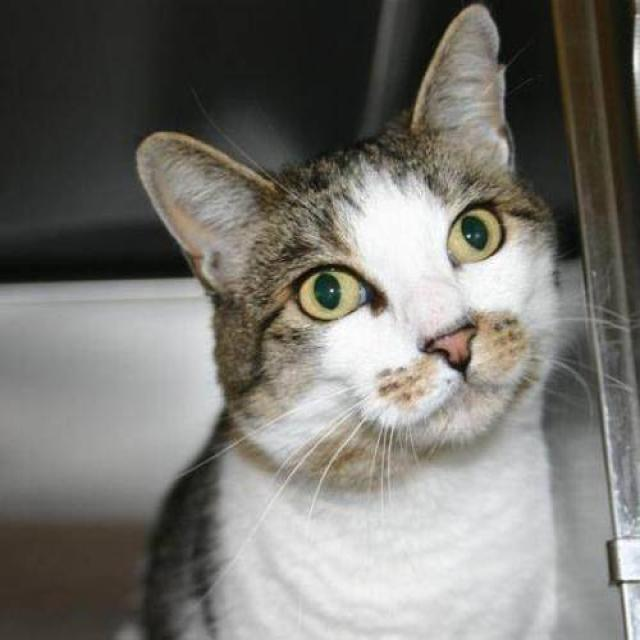cat: (109, 0, 639, 639)
